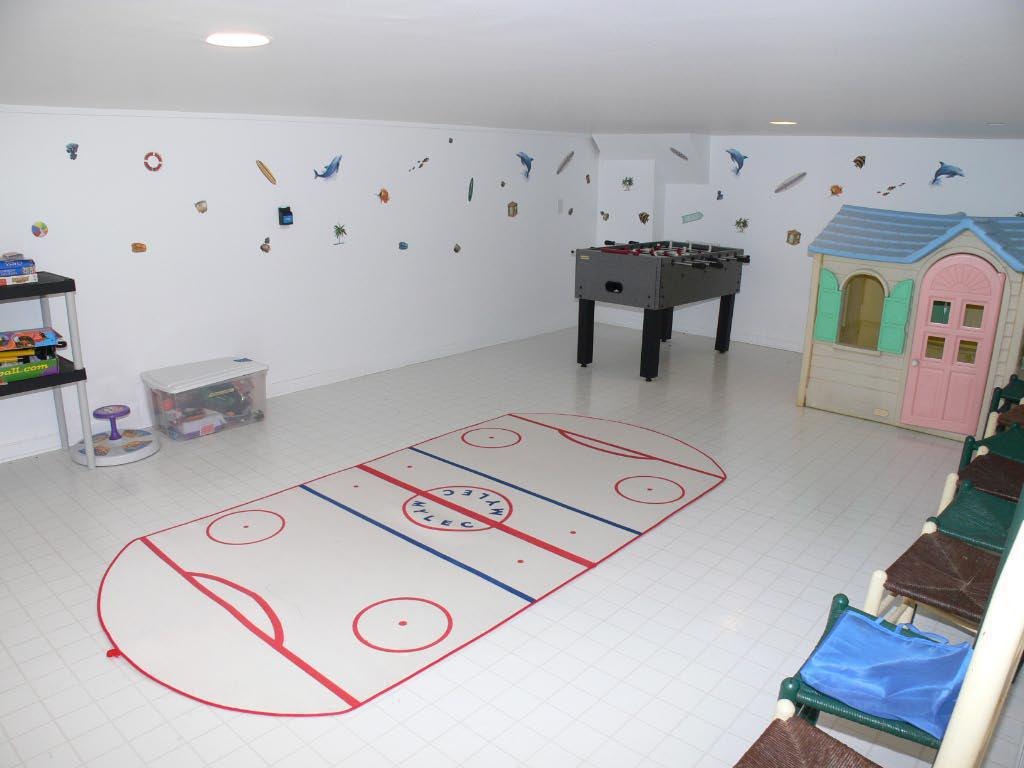Otro Obstaculo: (810, 210, 1003, 434), (143, 358, 276, 430), (76, 401, 170, 473)
